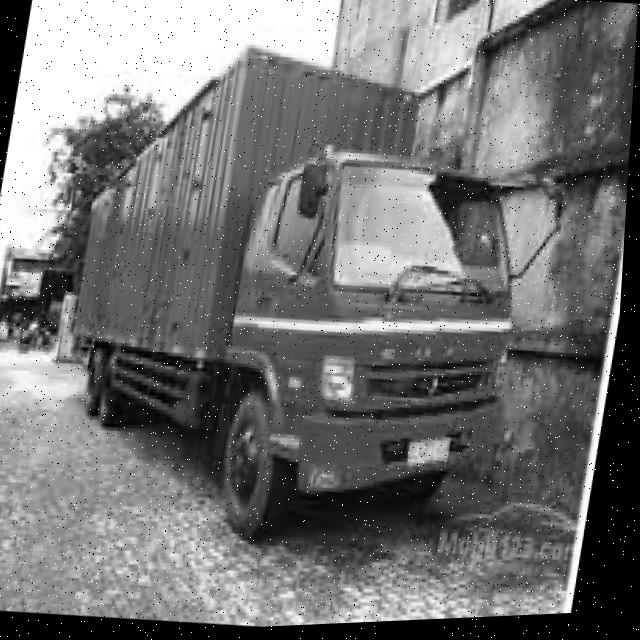truck: (171, 98, 590, 572)
